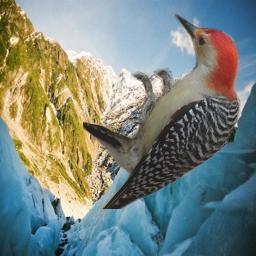Woodpecker: (83, 12, 247, 209)
